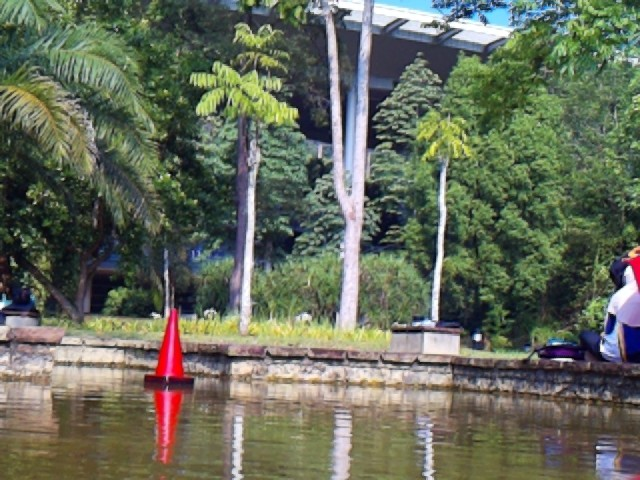obstacle: (143, 308, 195, 386)
